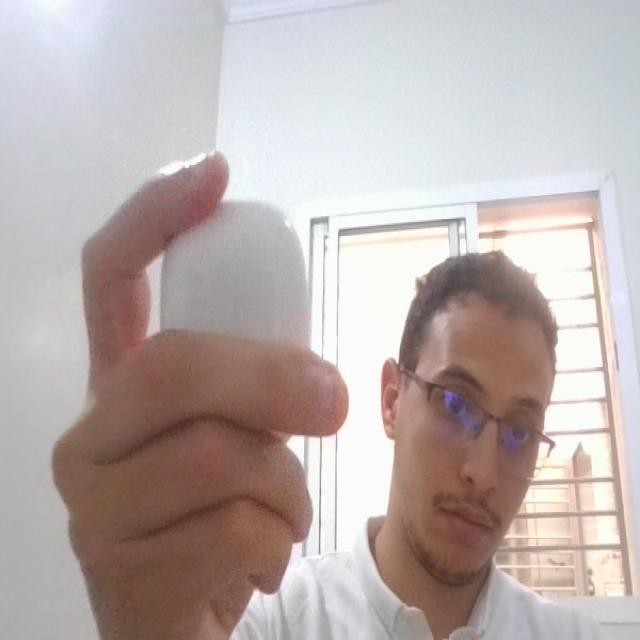airpods: (157, 195, 314, 439)
